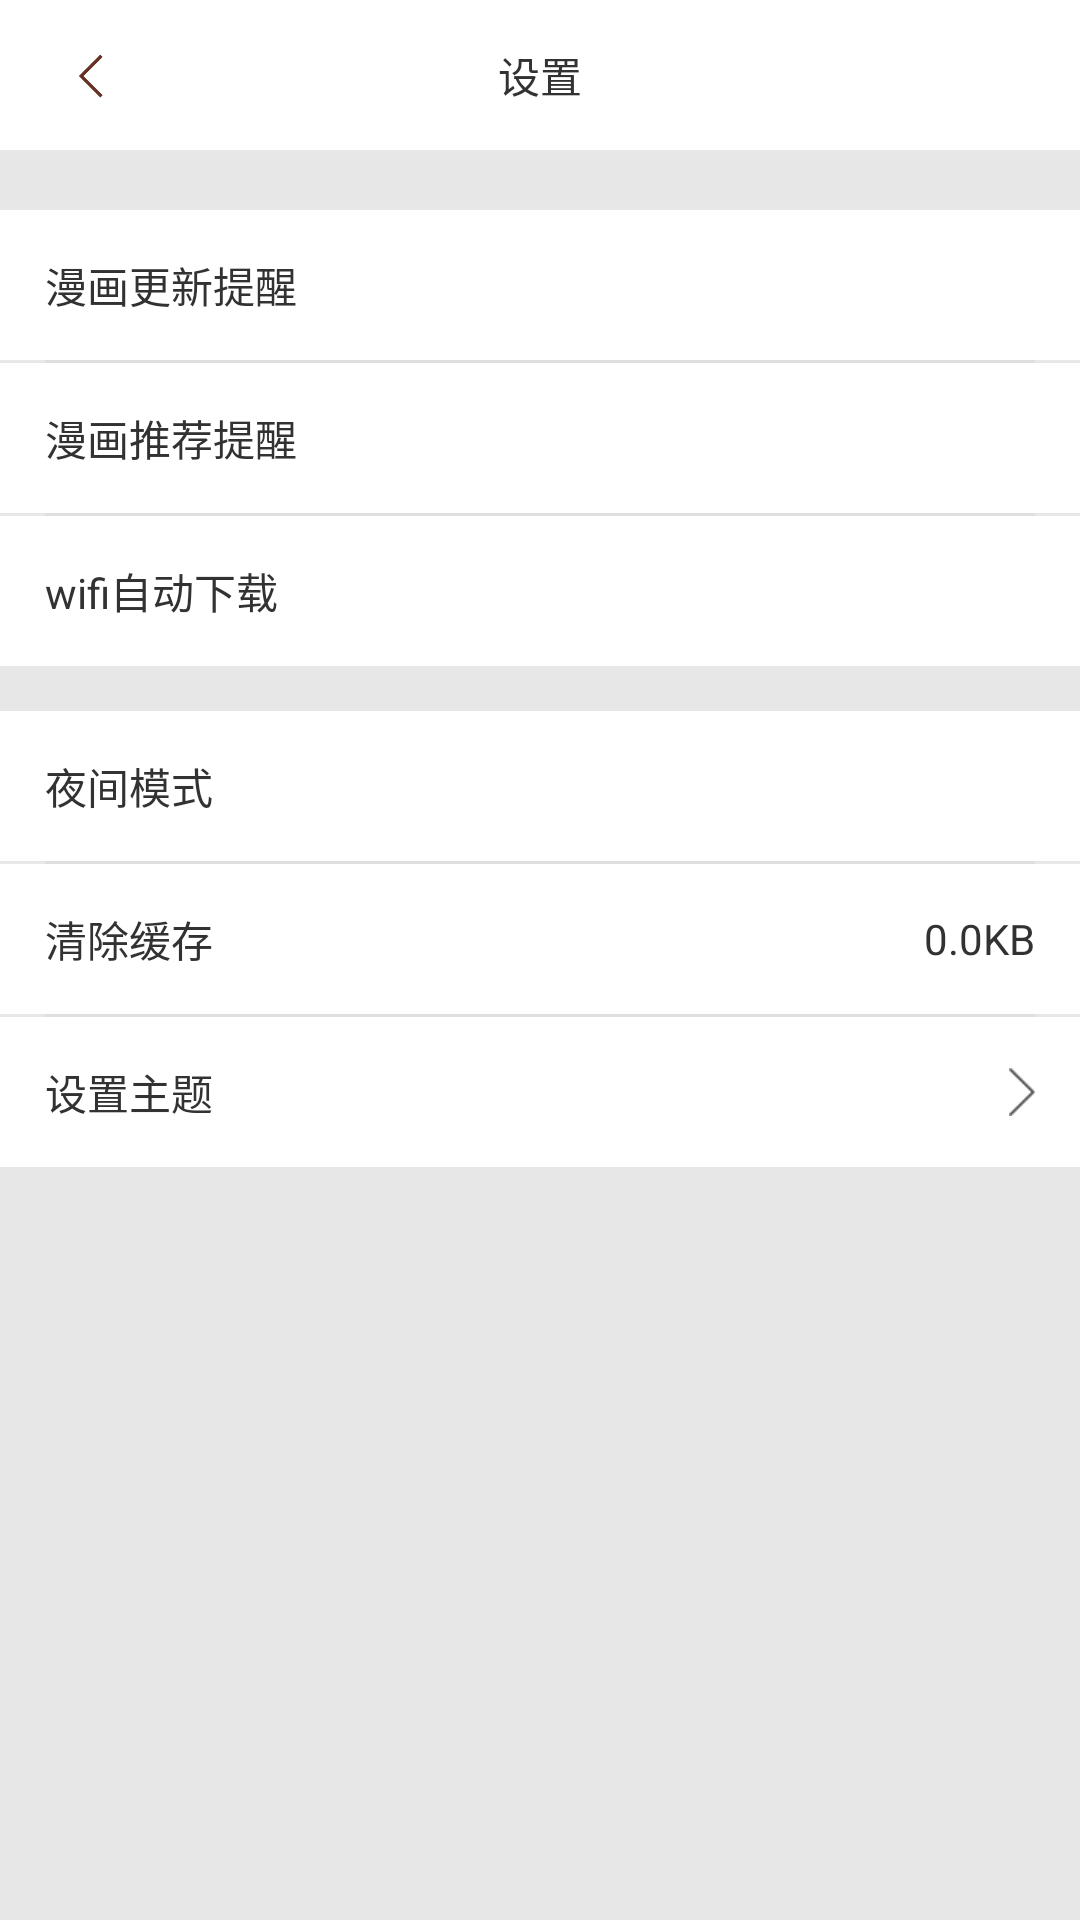

Locate icon controls on the screen. Image size 1080 × 1920, boxes as (x1, y1, x2, y2).
arrow: (1009, 1068, 1035, 1116)
myback: (79, 54, 103, 98)
